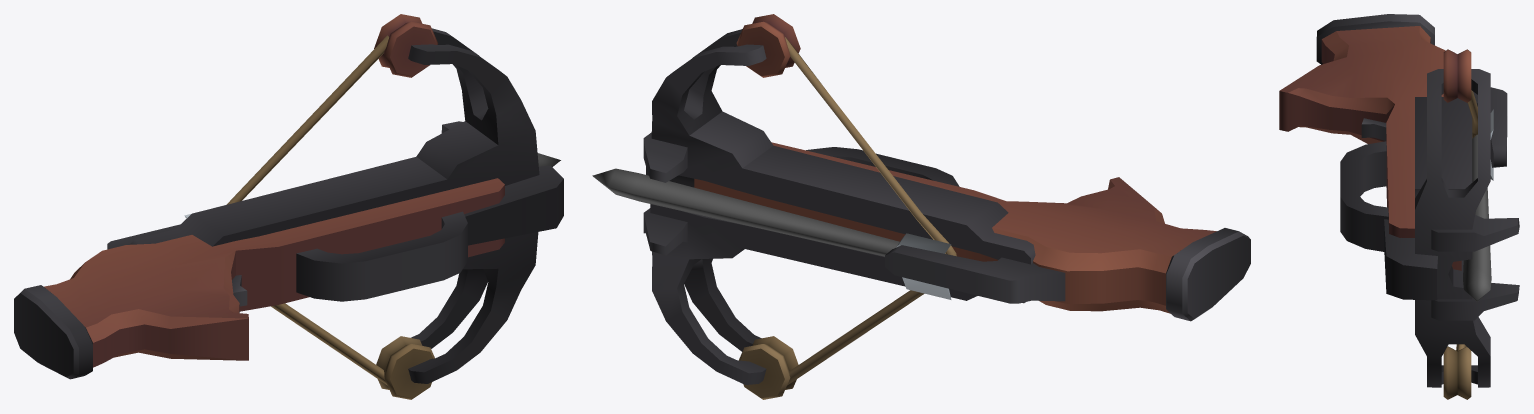
The model's file is Weapon_Crossbow.fbx.
3 views of the same model, side by side, from view 1: azimuth 30°, elevation 25°; view 2: azimuth 150°, elevation 25°; view 3: azimuth 270°, elevation 25° (orthographic). The views are drawn at different scales.
Parts seen in each view (by area): view 1: Weapon_Crossbow; view 2: Weapon_Crossbow; view 3: Weapon_Crossbow.
Part boxes in pixels (left/top/right/bottom): Weapon_Crossbow: left=14, top=14, right=563, bottom=399; Weapon_Crossbow: left=592, top=14, right=1250, bottom=399; Weapon_Crossbow: left=1279, top=14, right=1519, bottom=399.
Size of the model in its own units: 0.7851 by 0.495 by 0.3091.
